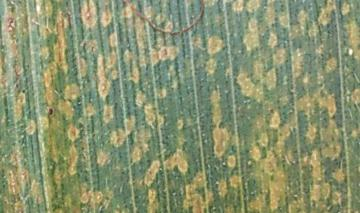tarspot: (47, 107, 55, 117), (104, 92, 110, 104), (268, 107, 275, 116), (223, 78, 230, 86), (20, 87, 26, 96), (329, 114, 336, 121), (279, 2, 285, 8), (273, 8, 278, 13), (279, 8, 285, 12)
